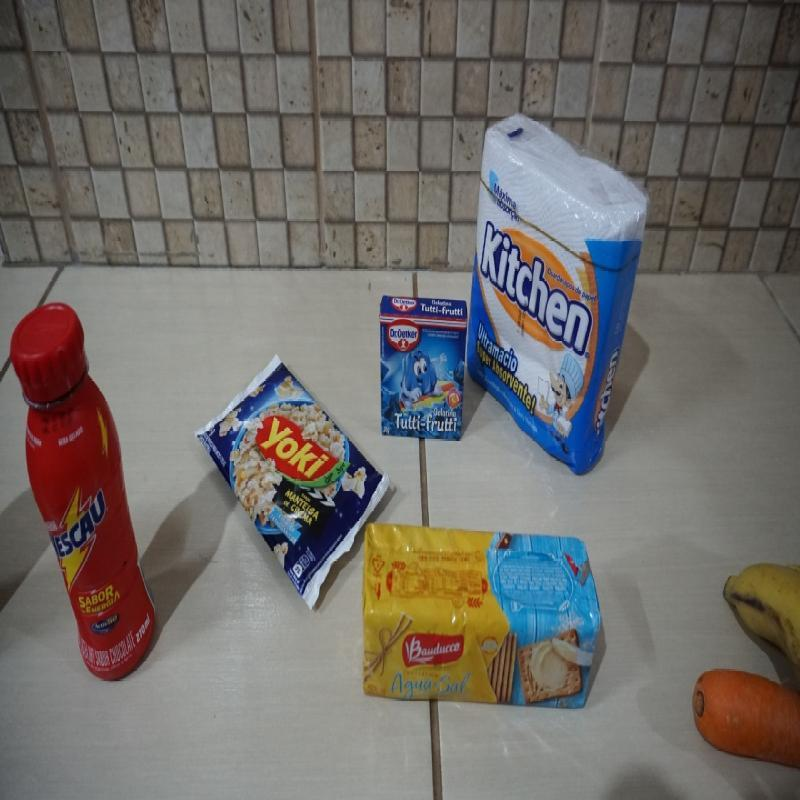Banana: (722, 552, 800, 654), (726, 555, 800, 661)
Carrot: (690, 664, 796, 774), (697, 678, 800, 764)
Chocolate Milk: (8, 302, 156, 682), (12, 304, 158, 681)
Cracker: (359, 519, 603, 714), (363, 529, 603, 719)
Gelatine: (378, 288, 471, 459), (378, 292, 472, 442)
Napkin: (467, 114, 652, 474), (473, 110, 645, 472)
Popcorn: (195, 353, 390, 613), (195, 351, 383, 612)
